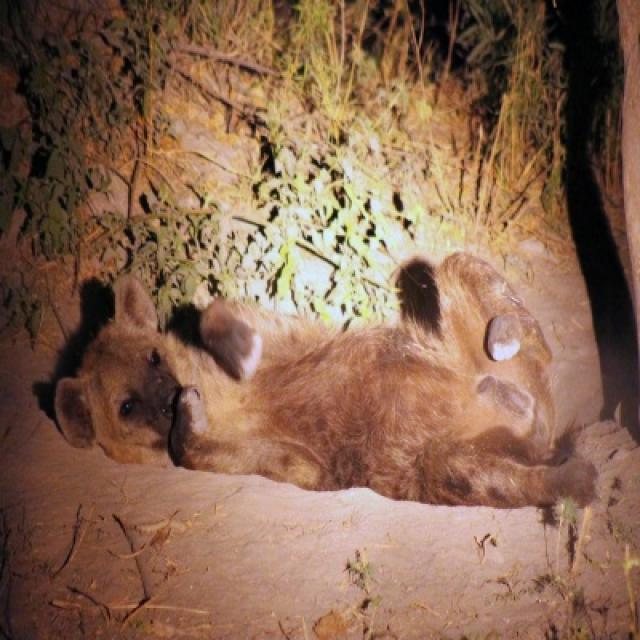hyena: (32, 253, 600, 512)
